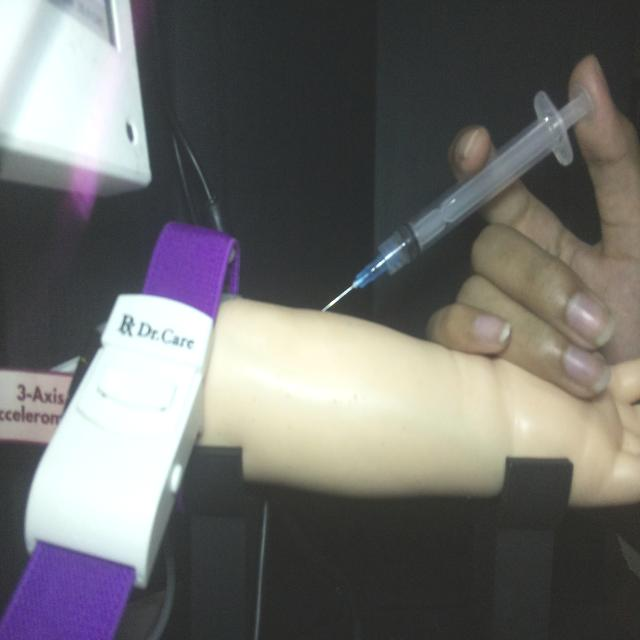28 degrees: (319, 82, 595, 314)
